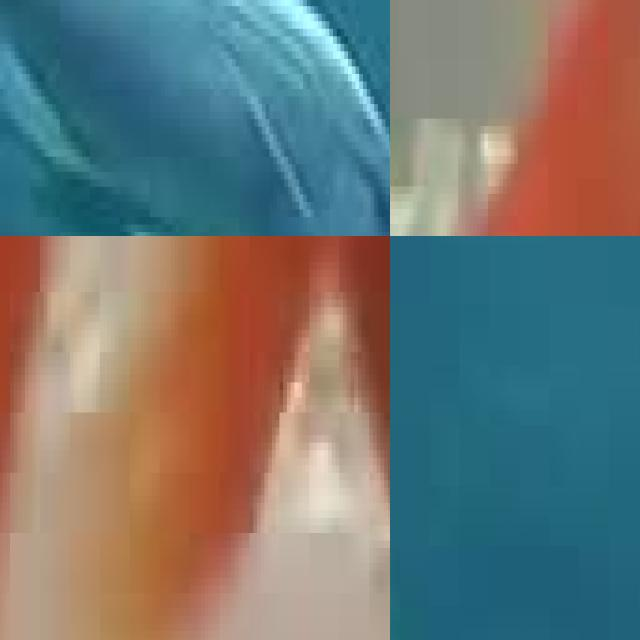fish: (0, 0, 390, 236), (390, 0, 640, 236)
